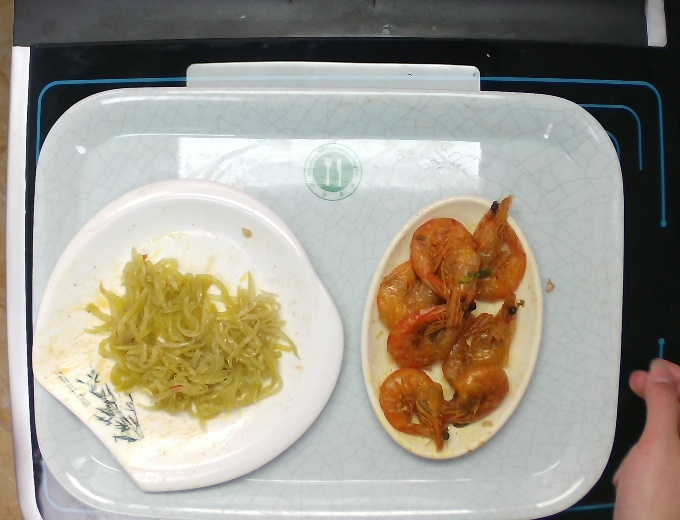JYsf-Mian_Pan: (32, 171, 348, 495)
JYsf-Tuo_Yuan_Wan: (353, 187, 546, 469)
